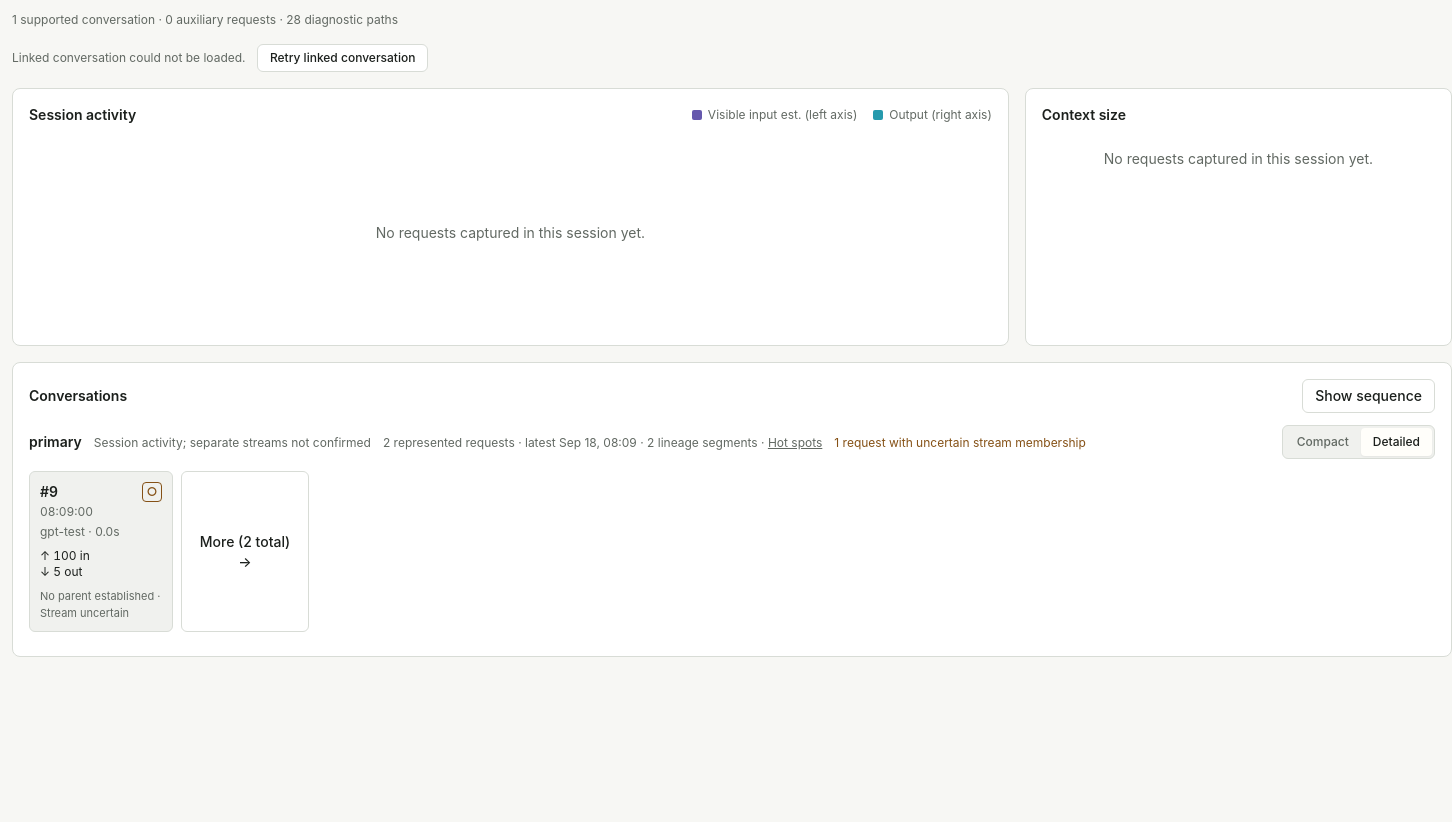
it: session conversation sequences › lets a failed linked conversation load be retried without polling repeatedly
Click the button "Retry linked conversation": [343, 58] box [257, 44, 428, 72]
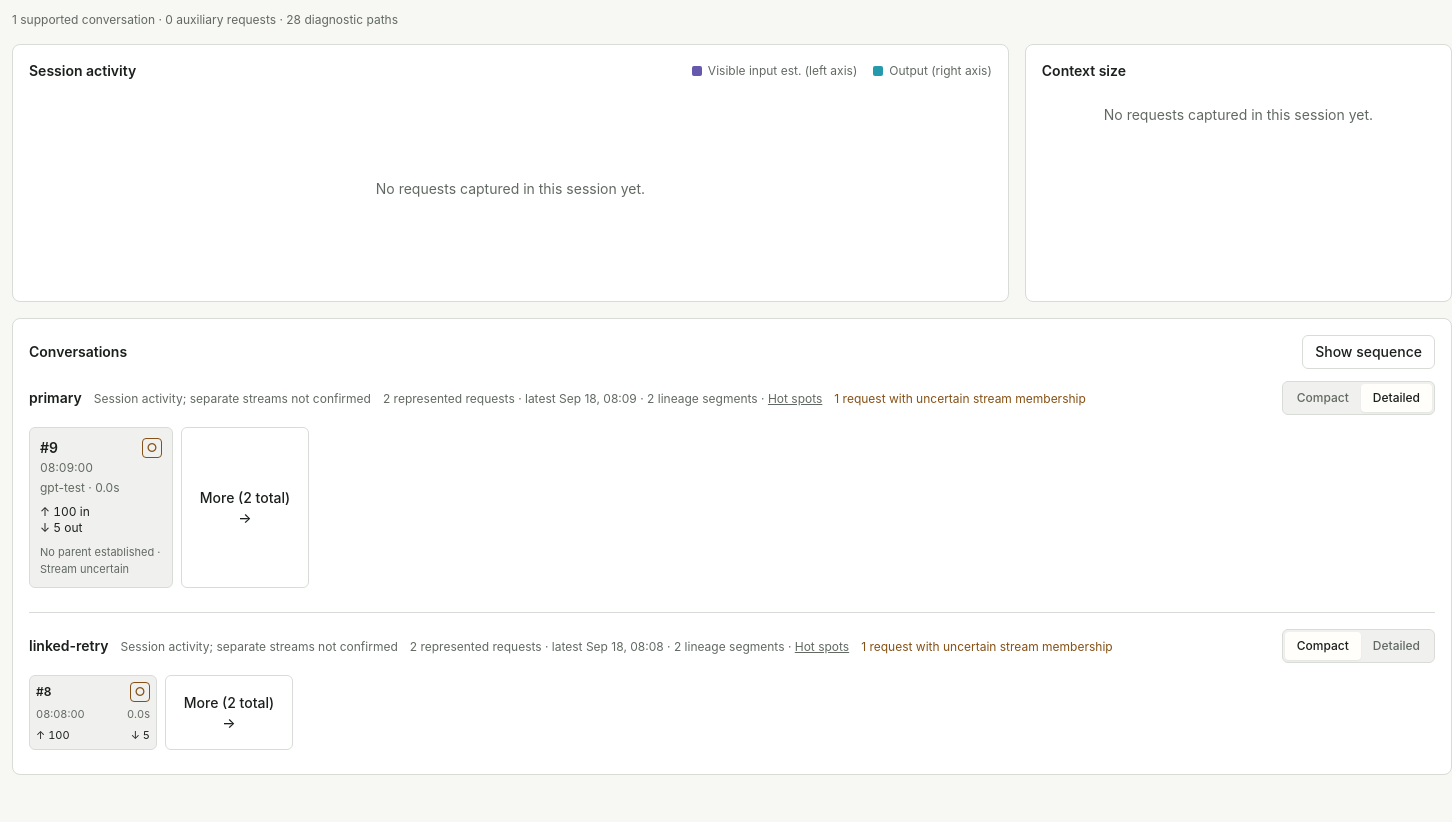
Now the element "linked-retry" is shown, box [29, 612, 1435, 758]
